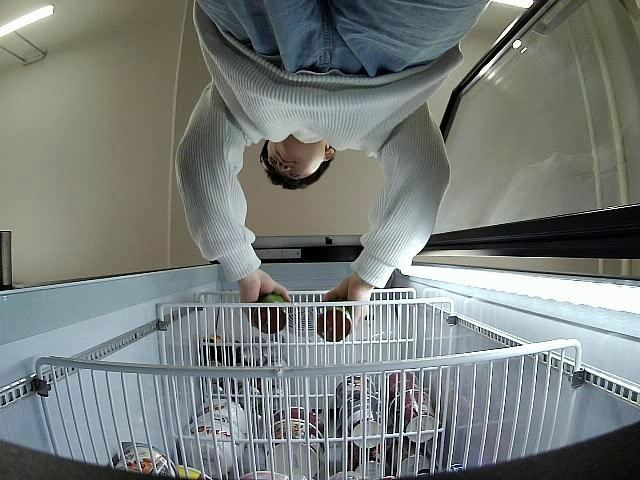19_17cha: (253, 294, 289, 332), (318, 303, 352, 341)
